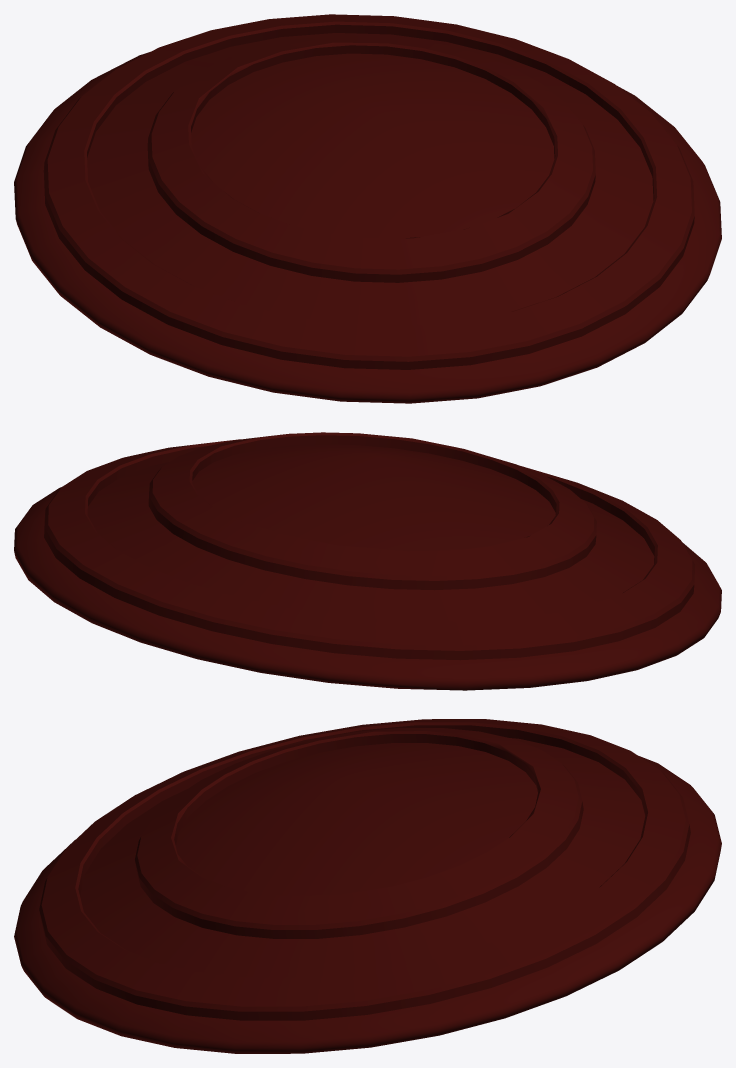
The model's file is helm.fbx.
3 renders of one model, top to bottom at view 1: azimuth 30°, elevation 25°; view 2: azimuth 150°, elevation 25°; view 3: azimuth 270°, elevation 25°, orthographic. The views are drawn at different scales.
Visible parts, largest first — view 1: Sphere.001; view 2: Sphere.001; view 3: Sphere.001.
Boxes of the visible parts, left/top/right/bottom form: Sphere.001: left=14, top=14, right=721, bottom=403; Sphere.001: left=14, top=432, right=721, bottom=690; Sphere.001: left=14, top=719, right=721, bottom=1053.
Bounding box in the file's own units: 163 × 40.02 × 157.
